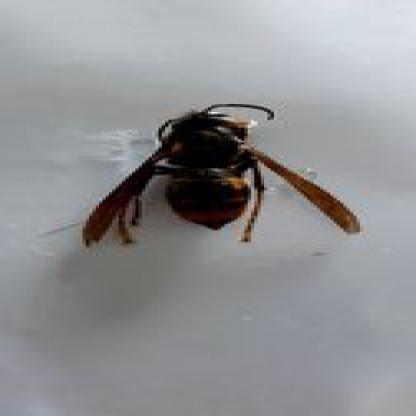Asian Hornet: (75, 90, 361, 260)
